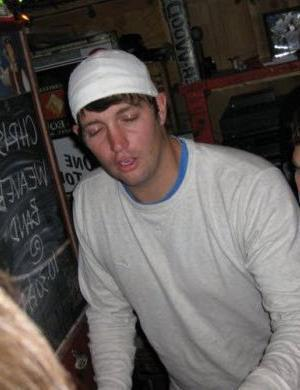Drunk: (79, 101, 159, 189)
